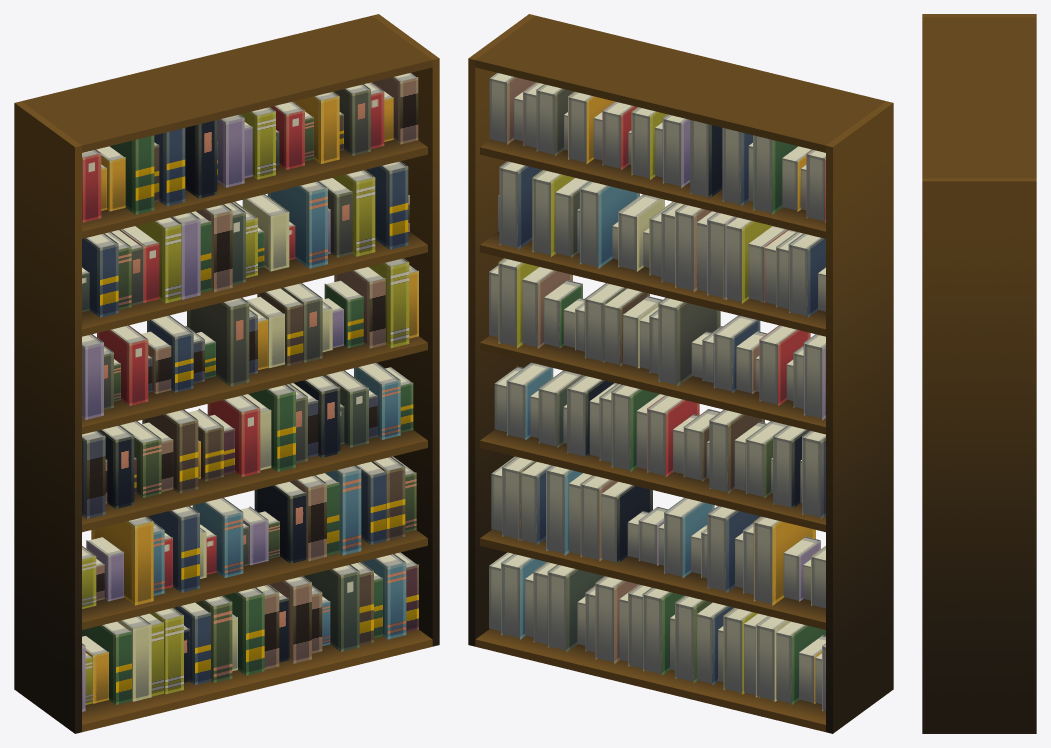
The model's file is Bookshelf1.fbx.
3 views of the same model, side by side, from view 1: azimuth 30°, elevation 25°; view 2: azimuth 150°, elevation 25°; view 3: azimuth 270°, elevation 25° (orthographic). The views are drawn at different scales.
Visible parts, largest first — view 1: bookshelf1; view 2: bookshelf1; view 3: bookshelf1.
Part boxes in pixels (left/top/right/bottom): bookshelf1: left=14, top=14, right=439, bottom=733; bookshelf1: left=468, top=14, right=893, bottom=733; bookshelf1: left=922, top=14, right=1036, bottom=733.
Size of the model in its own units: 10400 by 16000 by 3000.
